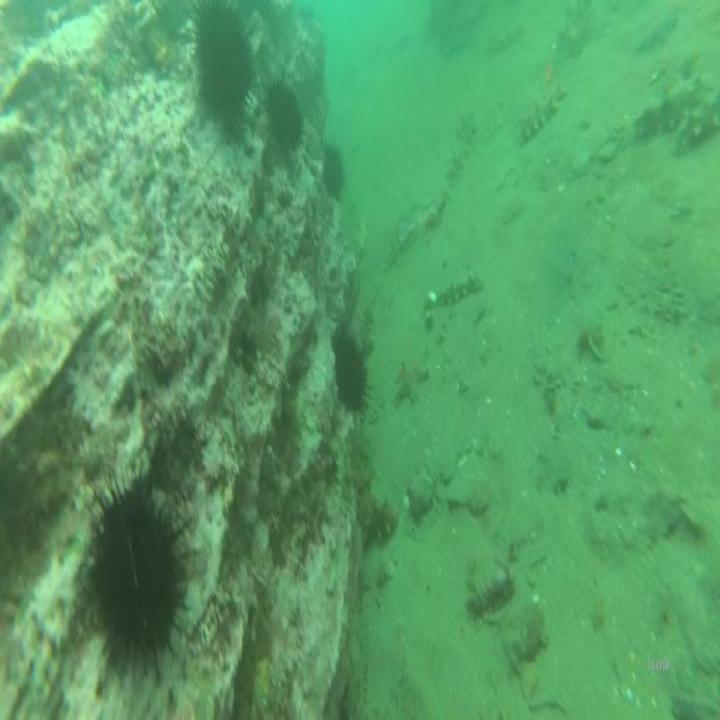echinus: (88, 478, 182, 679), (189, 2, 260, 138), (333, 318, 373, 423), (260, 69, 308, 155), (319, 130, 348, 206)
holothurian: (622, 66, 711, 146), (347, 450, 400, 544), (514, 82, 568, 151), (673, 89, 720, 156), (425, 263, 485, 313), (441, 112, 479, 187)
starfish: (636, 11, 679, 58)
